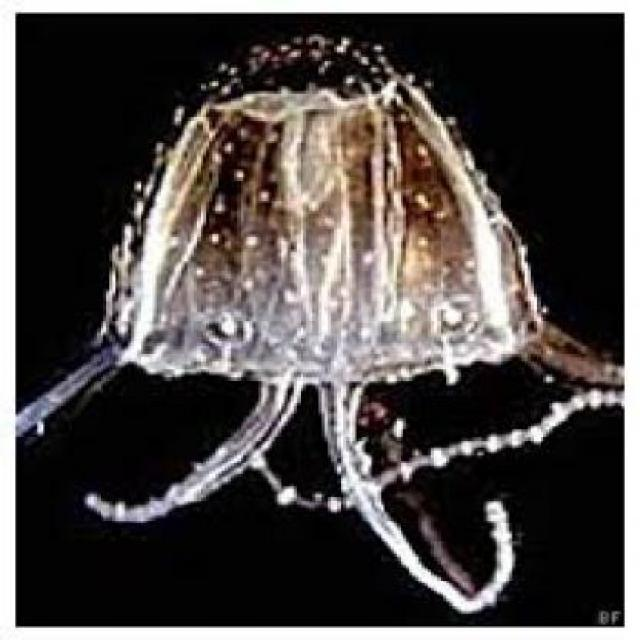Jellyfish: (35, 29, 588, 616)
